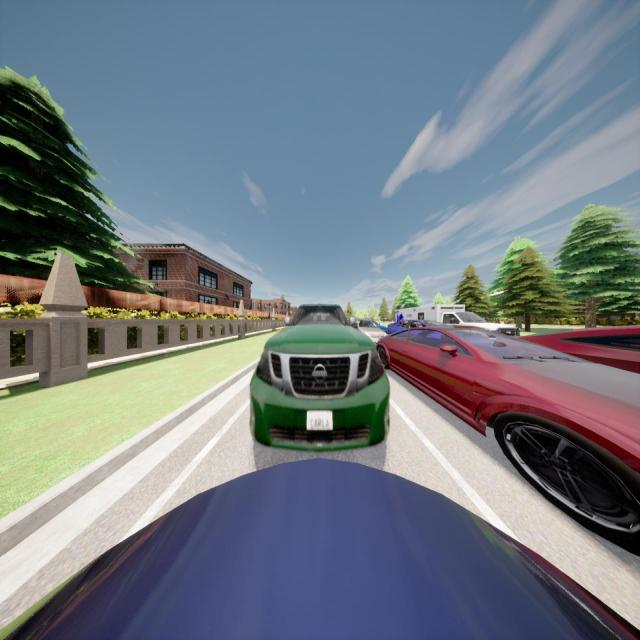Vehicle: (1, 456, 640, 640), (378, 324, 640, 559), (250, 304, 389, 449), (512, 324, 640, 374), (394, 303, 520, 337), (352, 315, 388, 346), (387, 318, 447, 334)
